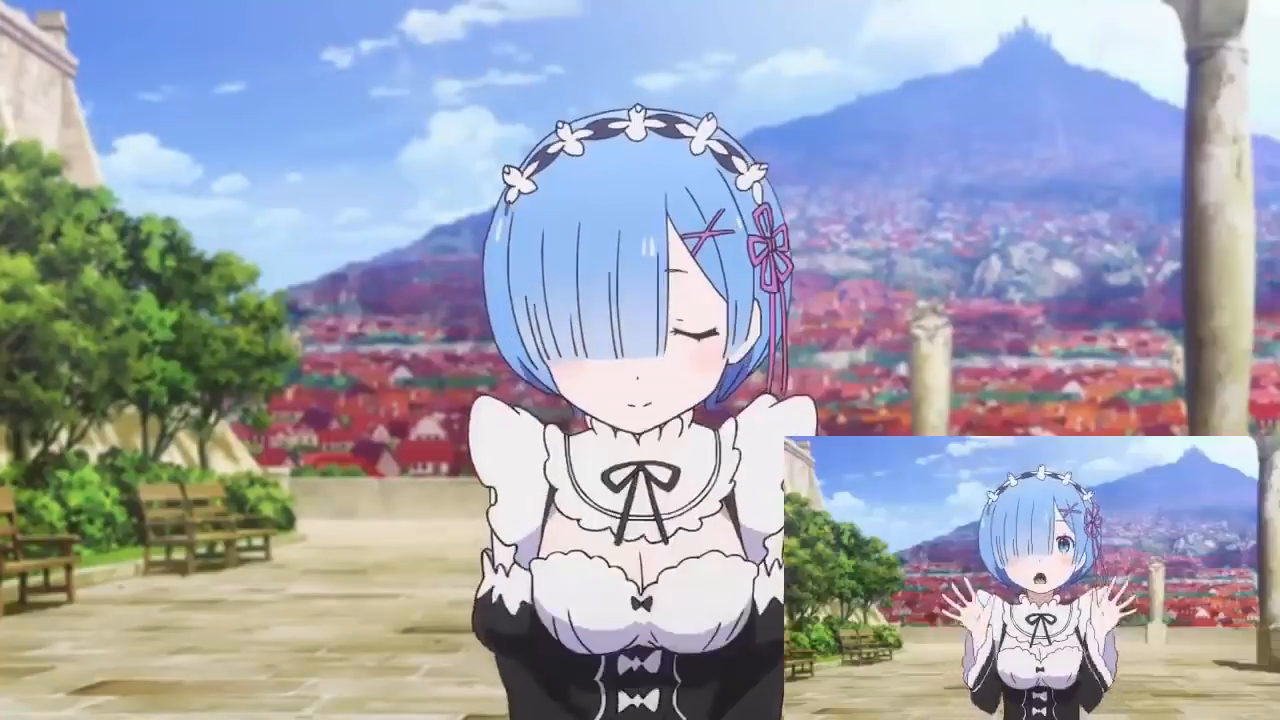REM: (473, 106, 799, 430), (974, 475, 1097, 595)
